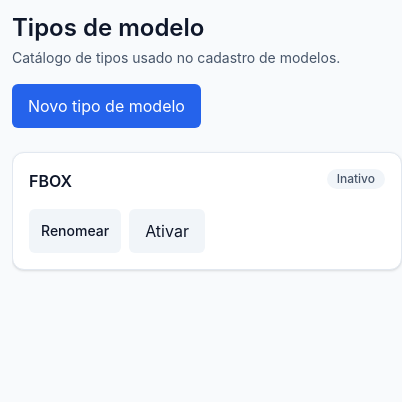
Scenario: TiposModeloPage — ativar e desativar › deve mostrar o erro da operação quando ativar falha
Click the button "Ativar" at (167, 231), box [129,209,205,253]
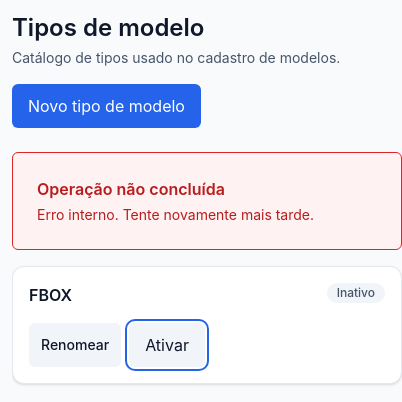
Expected: the heading "Operação não concluída" is shown, [37,179,225,199]
